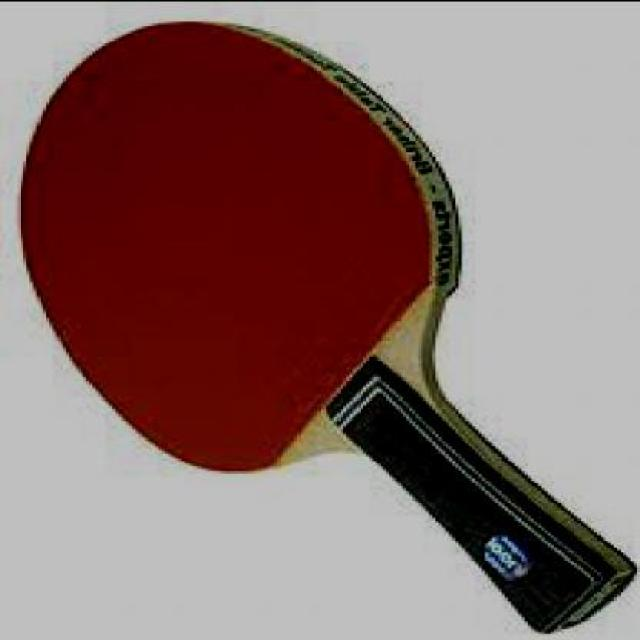table_tennis_racket: (18, 23, 635, 637)
